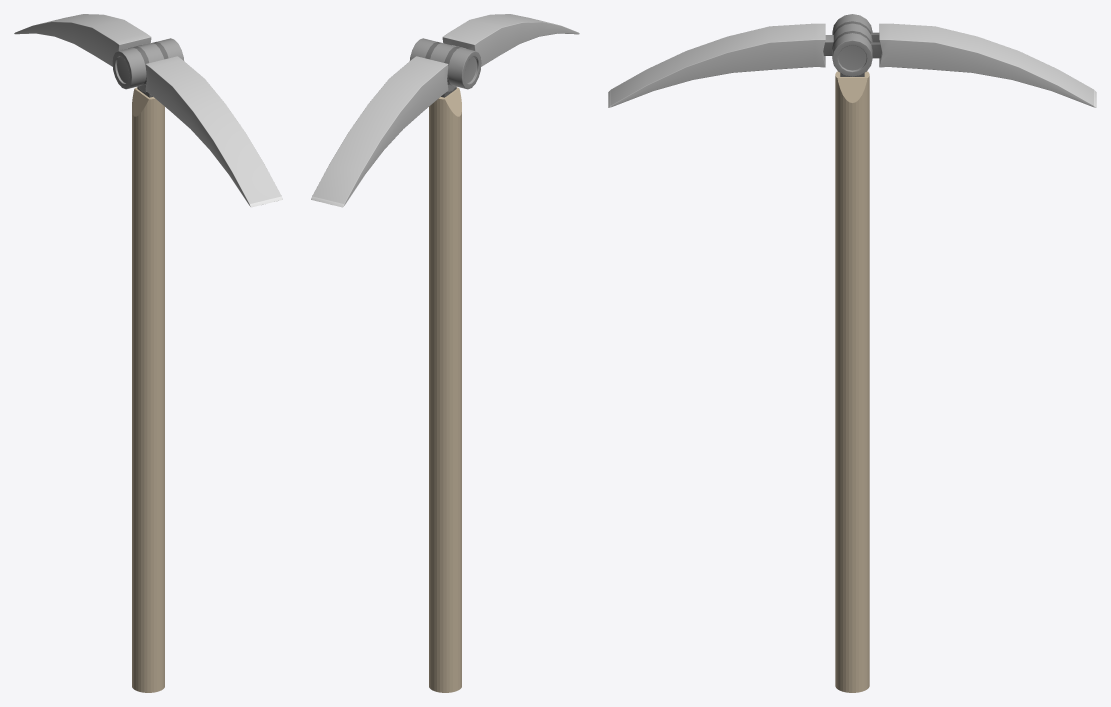
Rendered from Pickaxe.fbx.
The picture shows the model from 3 angles, left to right: view 1: azimuth 30°, elevation 25°; view 2: azimuth 150°, elevation 25°; view 3: azimuth 270°, elevation 25°; orthographic projection. The views are drawn at different scales.
Parts seen in each view (by area): view 1: Pickaxe.001, Pickaxe; view 2: Pickaxe.001, Pickaxe; view 3: Pickaxe.001, Pickaxe.
Part boxes in pixels (x1,y1,x2,y2): Pickaxe.001: (132, 87, 164, 692); Pickaxe: (14, 14, 282, 207); Pickaxe.001: (429, 87, 461, 692); Pickaxe: (311, 14, 579, 207); Pickaxe.001: (835, 71, 869, 692); Pickaxe: (608, 14, 1096, 107).
Size of the model in its own units: 34.75 by 403 by 270.
